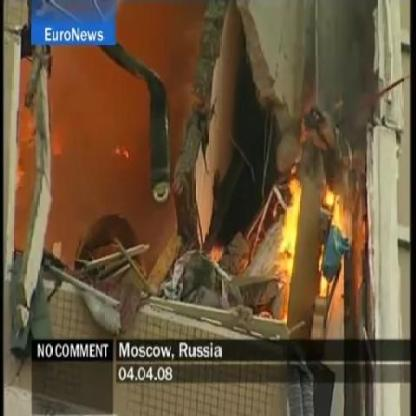fire: (282, 177, 345, 299), (207, 244, 223, 261)
